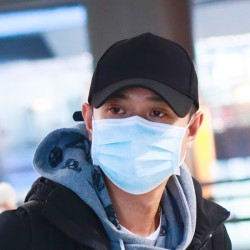mask: (86, 108, 191, 198)
